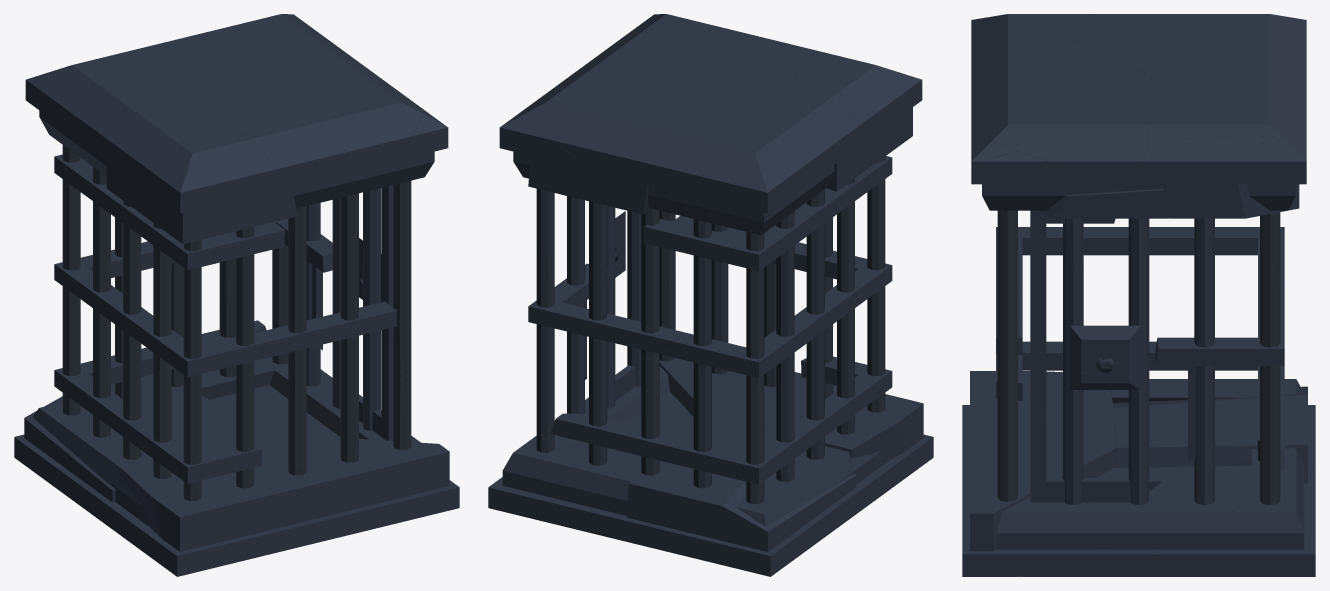
The model's file is jail_fragmented.fbx.
The picture shows the model from 3 angles, left to right: view 1: azimuth 30°, elevation 25°; view 2: azimuth 150°, elevation 25°; view 3: azimuth 270°, elevation 25°; orthographic projection. The views are drawn at different scales.
Parts seen in each view (by area): view 1: Cube.001_cell.003, Cube.002_cell.001, Cube.001_cell.008, Cube.001_cell.004, Cube.007_cell.004, Cube_cell.002, Cube.003_cell, Cube.001_cell.009, Cube.007_cell.003, Cube.002_cell.005, Cube.004_cell.003, Cube.002_cell.007 (+45 smaller); view 2: Cube.001_cell.008, Cube.002_cell.007, Cube.001_cell.009, Cube.001_cell.003, Cube.002_cell.002, Cube.007_cell.004, Cube.002_cell.001, Cube.001_cell.004, Cube_cell.005, Cube.004_cell.007, Cube.004_cell, Cube.003_cell.007 (+45 smaller); view 3: Cube.001_cell.003, Cube.001_cell.008, Cube.002_cell.001, Cube.002_cell.004, Cube.002_cell.002, Cube.001_cell.009, Cube.002_cell.007, Cube.001_cell.007, Cube_cell.005, Cube_cell.001, Cube.001_cell.004, Cube.004_cell (+36 smaller).
Part boxes in pixels (left/top/right/bottom): Cube.001_cell.003: left=211, top=55, right=421, bottom=188; Cube.002_cell.001: left=171, top=369, right=449, bottom=530; Cube.001_cell.008: left=46, top=38, right=244, bottom=166; Cube.001_cell.004: left=117, top=118, right=280, bottom=213; Cube.007_cell.004: left=54, top=347, right=261, bottom=483; Cube_cell.002: left=92, top=492, right=343, bottom=573; Cube.003_cell: left=106, top=160, right=297, bottom=244; Cube.001_cell.009: left=184, top=14, right=347, bottom=75; Cube.007_cell.003: left=65, top=164, right=285, bottom=270; Cube.002_cell.005: left=121, top=460, right=264, bottom=551; Cube.004_cell.003: left=126, top=310, right=311, bottom=377; Cube.002_cell.007: left=24, top=374, right=257, bottom=502; Cube.001_cell.008: left=620, top=76, right=859, bottom=206; Cube.002_cell.007: left=626, top=417, right=856, bottom=551; Cube.001_cell.009: left=532, top=61, right=690, bottom=177; Cube.001_cell.003: left=576, top=14, right=816, bottom=84; Cube.002_cell.002: left=502, top=392, right=693, bottom=515; Cube.007_cell.004: left=651, top=356, right=892, bottom=484; Cube.002_cell.001: left=555, top=358, right=906, bottom=480; Cube.001_cell.004: left=794, top=50, right=922, bottom=146; Cube_cell.005: left=488, top=477, right=654, bottom=547; Cube.004_cell.007: left=656, top=307, right=830, bottom=378; Cube.004_cell: left=528, top=263, right=650, bottom=351; Cube.003_cell.007: left=528, top=156, right=650, bottom=214; Cube.001_cell.003: left=971, top=40, right=1151, bottom=184; Cube.001_cell.008: left=1077, top=14, right=1306, bottom=94; Cube.002_cell.001: left=970, top=379, right=1259, bottom=551; Cube.002_cell.004: left=996, top=384, right=1296, bottom=549; Cube.002_cell.002: left=1084, top=449, right=1304, bottom=549; Cube.001_cell.009: left=1148, top=73, right=1306, bottom=139; Cube.002_cell.007: left=1112, top=386, right=1307, bottom=483; Cube.001_cell.007: left=1139, top=134, right=1306, bottom=184; Cube_cell.005: left=1150, top=468, right=1315, bottom=576; Cube_cell.001: left=962, top=491, right=1153, bottom=576; Cube.001_cell.004: left=971, top=14, right=1094, bottom=70; Cube.004_cell: left=1154, top=285, right=1284, bottom=365.
Bounding box in the file's own units: 504 × 681 × 504.
